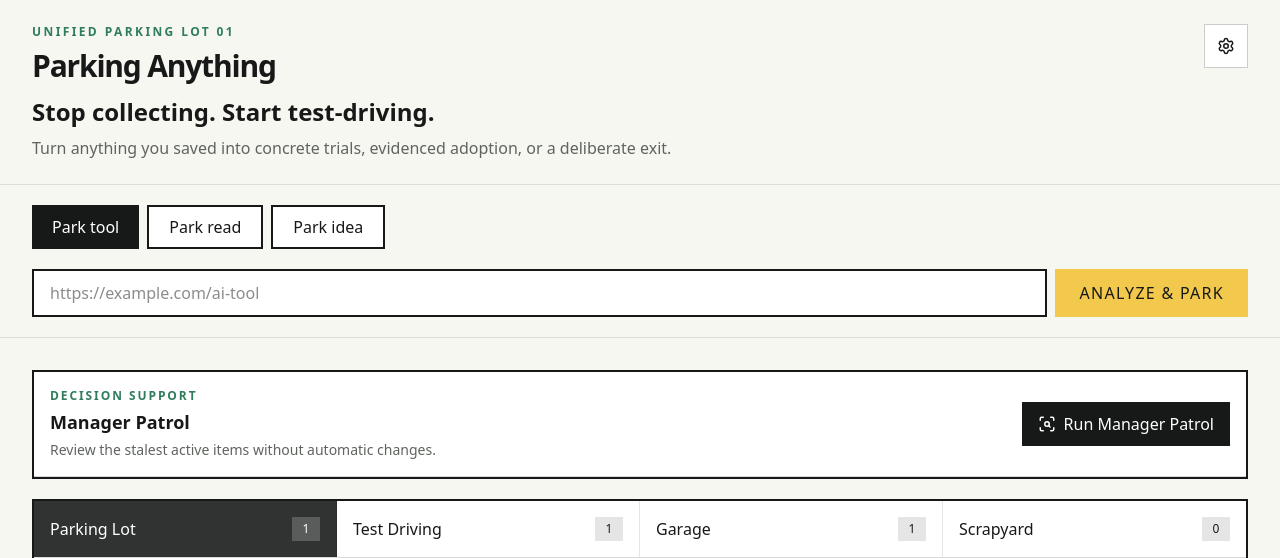
ParkingApp live analysis › shows a visible URL-only warning after a successful fallback
Type "https://example.com/tool" into the field named "AI tool URL" at point(540, 293), box [32,269,1048,317]
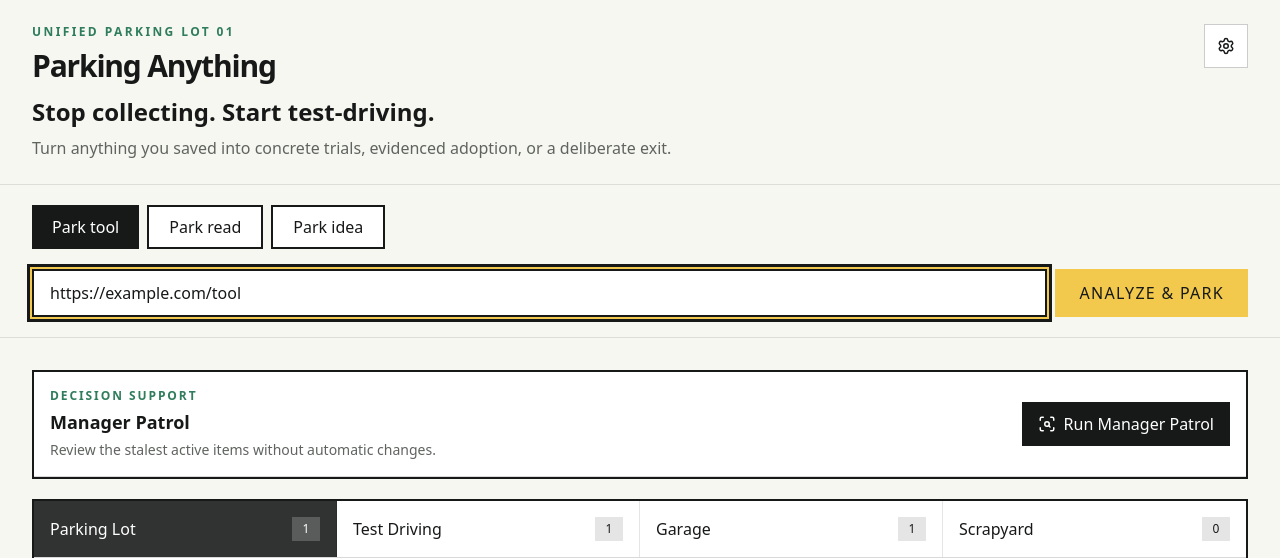
Click the button "Analyze & Park" at point(1152, 293), box [1056,269,1248,317]
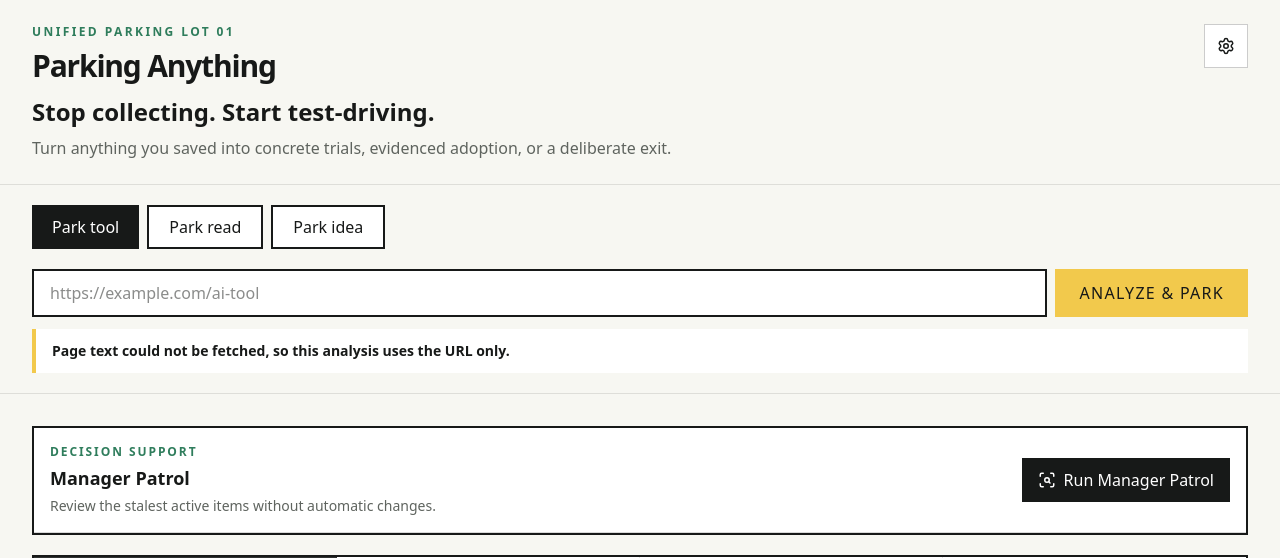
Expected: the text "Page text could not be fetched, so this analysis uses the URL only." is shown, [32,329,1248,373]
